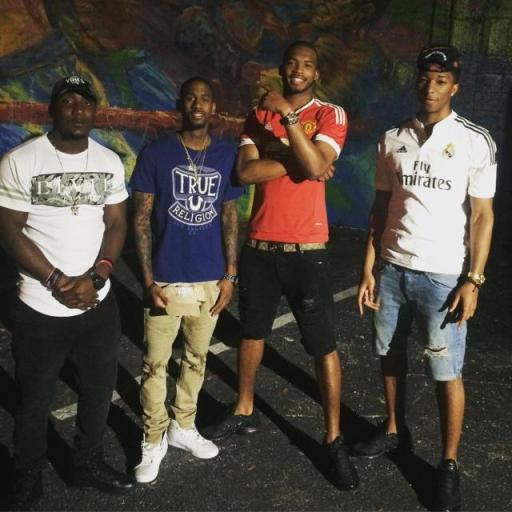Adidas: (262, 120, 276, 132), (396, 145, 409, 155)
Emirates: (398, 161, 454, 192)
